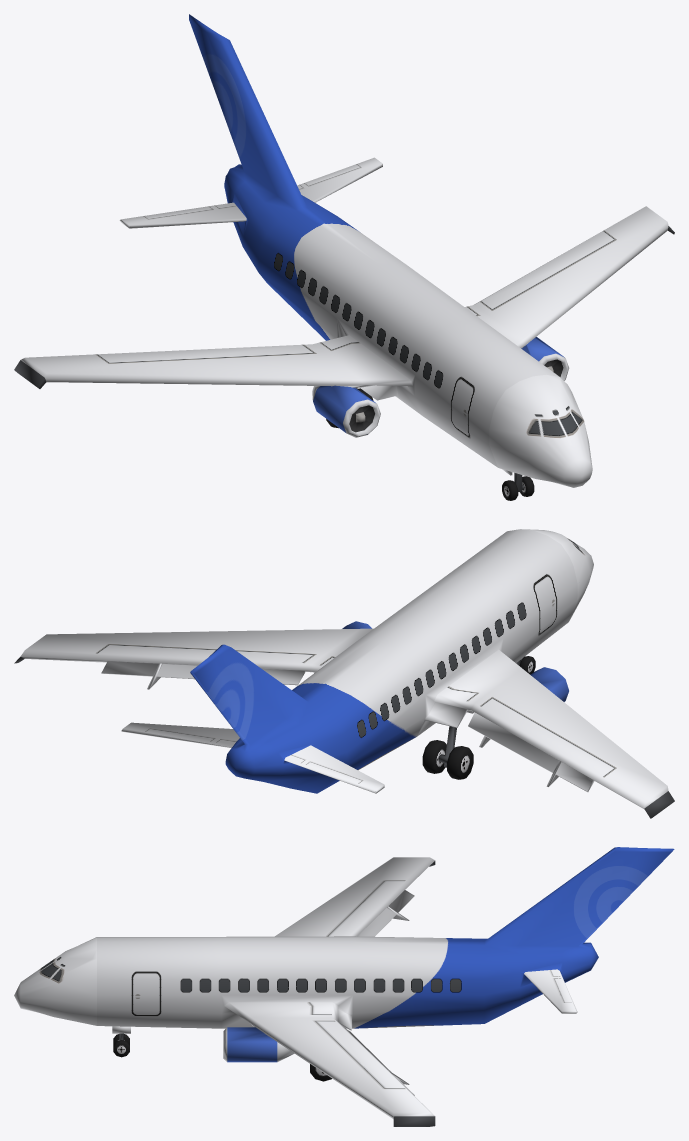
The model's file is Airplane.glb.
3 renders of one model, top to bottom at view 1: azimuth 30°, elevation 25°; view 2: azimuth 150°, elevation 25°; view 3: azimuth 270°, elevation 25°, orthographic. The views are drawn at different scales.
Visible parts, largest first — view 1: Airplane1; view 2: Airplane1, Wheel5, Wheel6; view 3: Airplane1.
Boxes of the visible parts, x1,y1,x2,y2 form: Airplane1: [14, 14, 674, 491]; Airplane1: [14, 529, 674, 818]; Wheel5: [447, 746, 473, 779]; Wheel6: [422, 740, 446, 773]; Airplane1: [14, 847, 674, 1126].
Bounding box in the file's own units: 7.78 × 2.88 × 8.32.
1 material, 1 textured.
